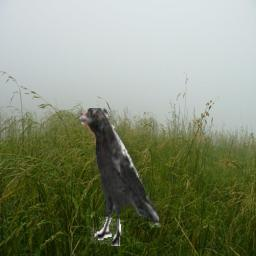Crow: (77, 108, 161, 246)
